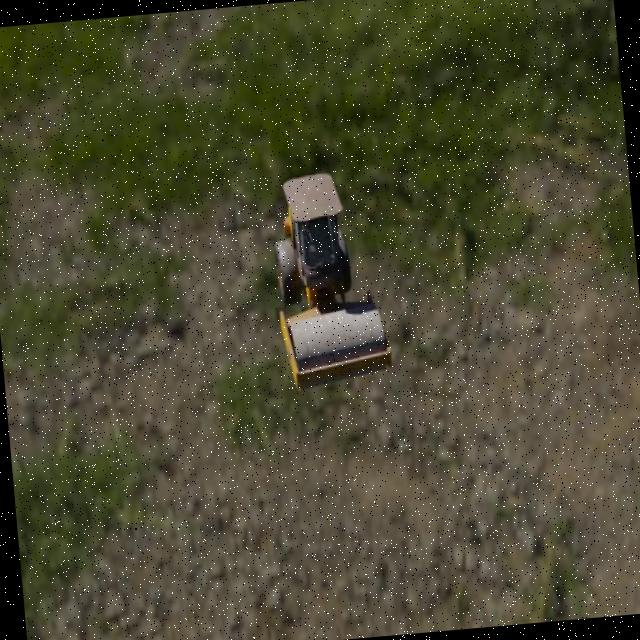Roller: (266, 168, 394, 390)
